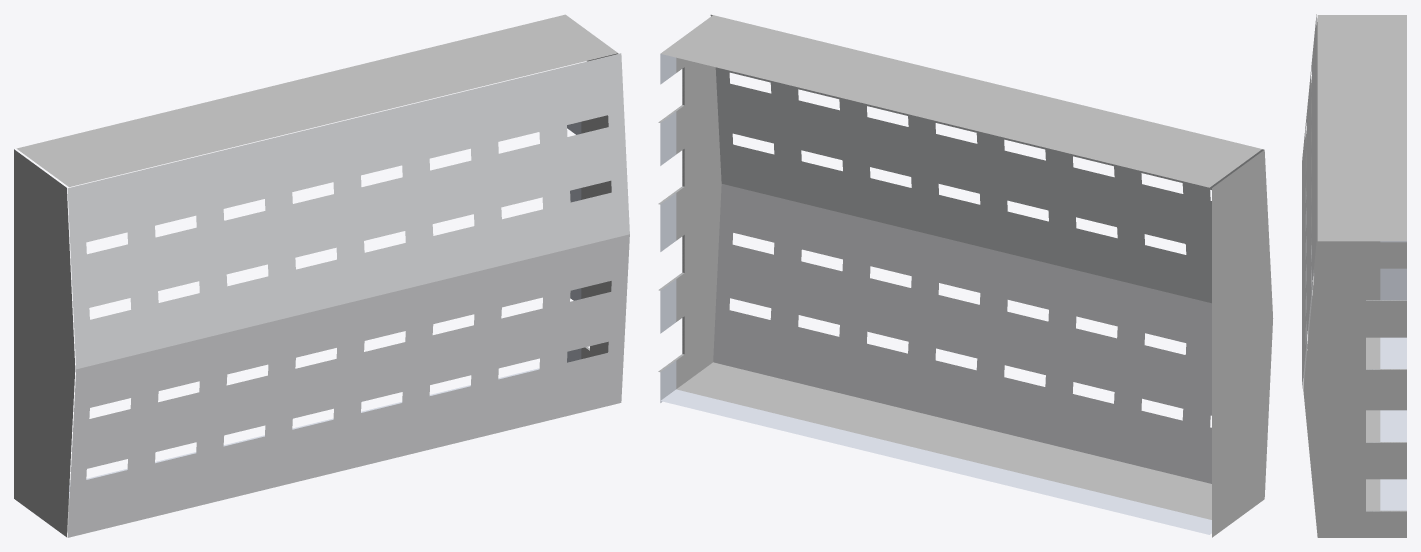
File: shell.gltf
The picture shows the model from 3 angles, left to right: view 1: azimuth 30°, elevation 25°; view 2: azimuth 150°, elevation 25°; view 3: azimuth 270°, elevation 25°; orthographic projection. The views are drawn at different scales.
Visible parts, largest first — view 1: shell; view 2: shell; view 3: shell.
Boxes of the visible parts, x1=… form: shell: x1=14, y1=14, x2=629, y2=537; shell: x1=658, y1=14, x2=1273, y2=537; shell: x1=1302, y1=14, x2=1406, y2=537.
Size of the model in its own units: 60.5 by 36.5 by 11.75.
